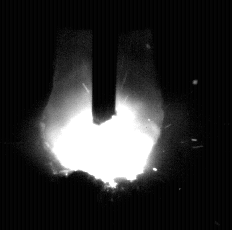arame: (93, 0, 117, 124)
poca: (38, 0, 161, 230)
